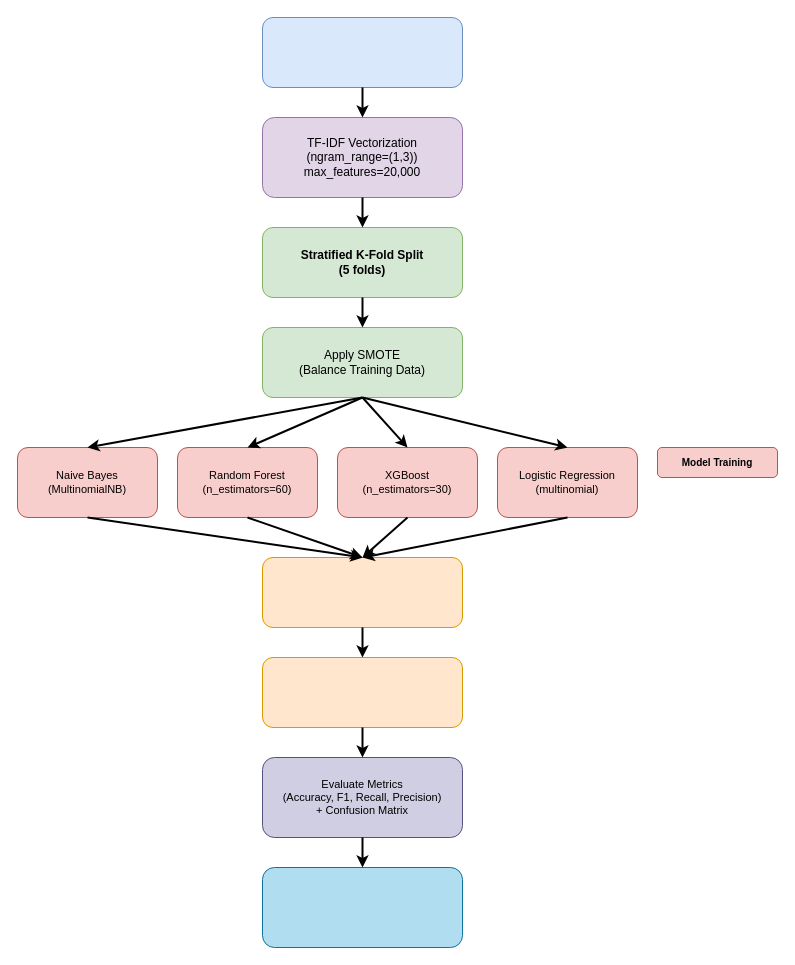
The diagram is 795 pixels wide and 965 high, and some of its shapes have lost their labels. Here are the shapes that lost their labels. From the top down, the centre of each, then its label:
(362,52): Load Dataset (Combined Data.csv) 53,043 records
(362,592): Soft Voting Ensemble (Combine 4 Models)
(362,692): Generate Predictions (7-class classification)
(362,907): Select Best Model (Highest F1-score) Save as best_ensemble.pkl
